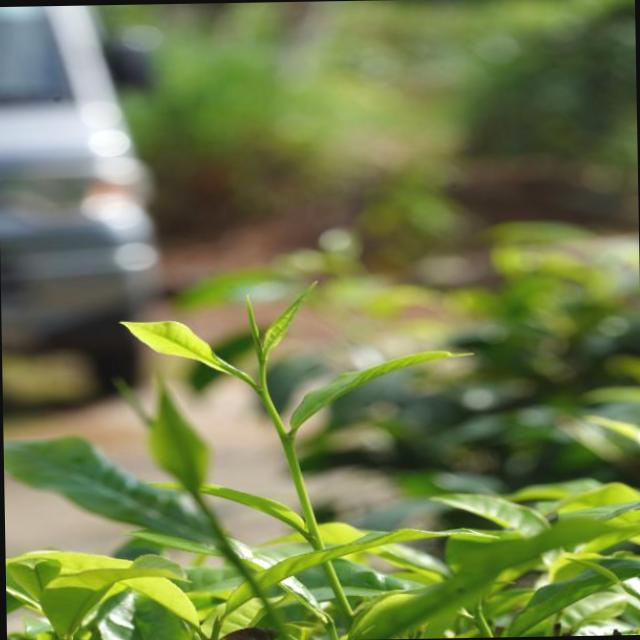Stem: (280, 432, 292, 449)
